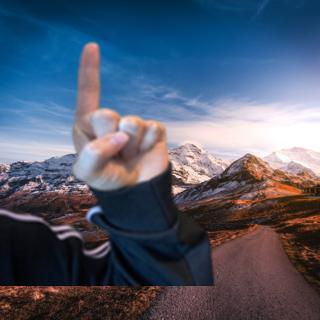IRRITATED: (64, 39, 171, 193)
